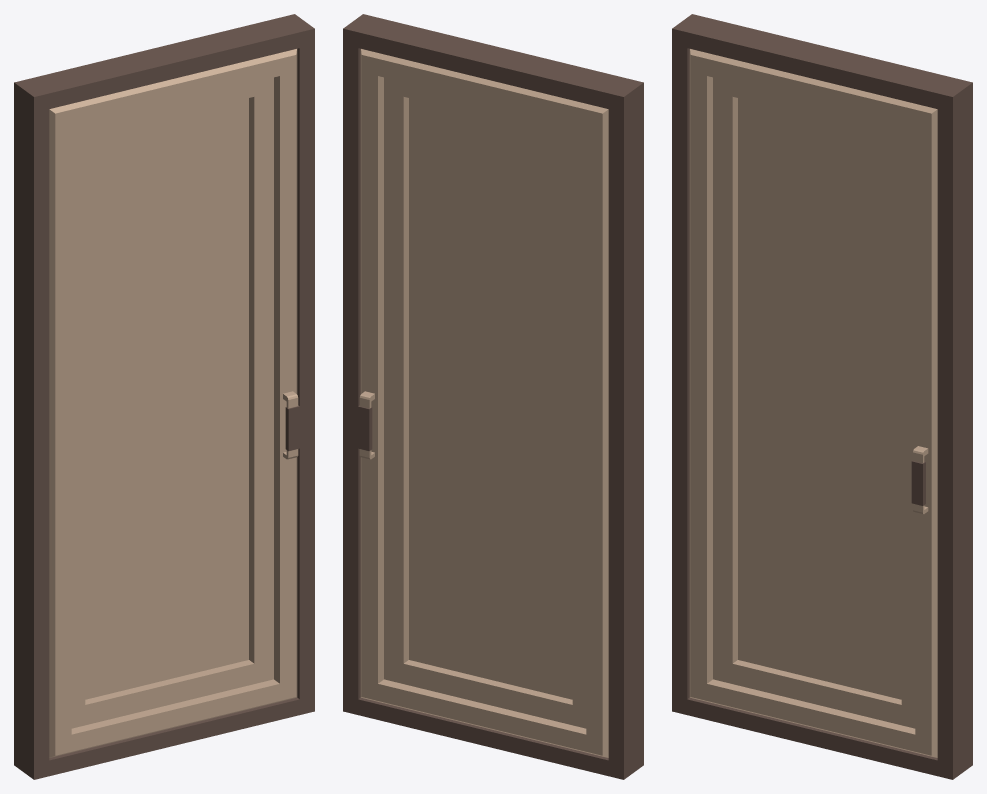
The model's file is door008.glb.
3 views of the same model, side by side, from view 1: azimuth 30°, elevation 25°; view 2: azimuth 150°, elevation 25°; view 3: azimuth 330°, elevation 25° (orthographic).
Visible parts, largest first — view 1: door.008; view 2: door.008; view 3: door.008.
Boxes of the visible parts, x1,y1,x2,y2 form: door.008: [14, 14, 314, 779]; door.008: [343, 14, 643, 779]; door.008: [672, 14, 972, 779].
Size of the model in its own units: 0.8604 by 2 by 0.1856.
Materials: 1 (1 with a texture image).
